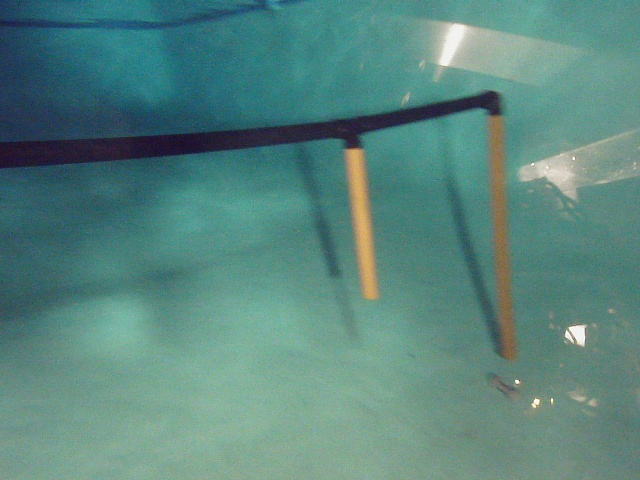Gate: (484, 113, 525, 359), (342, 146, 381, 304)
